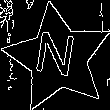N_S: (34, 29, 82, 86)
